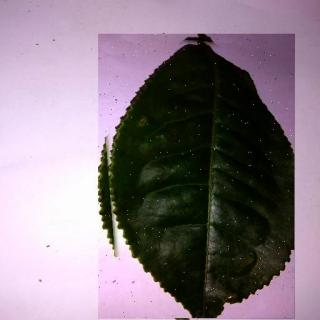Bird Eye Spot: (99, 35, 297, 320)
